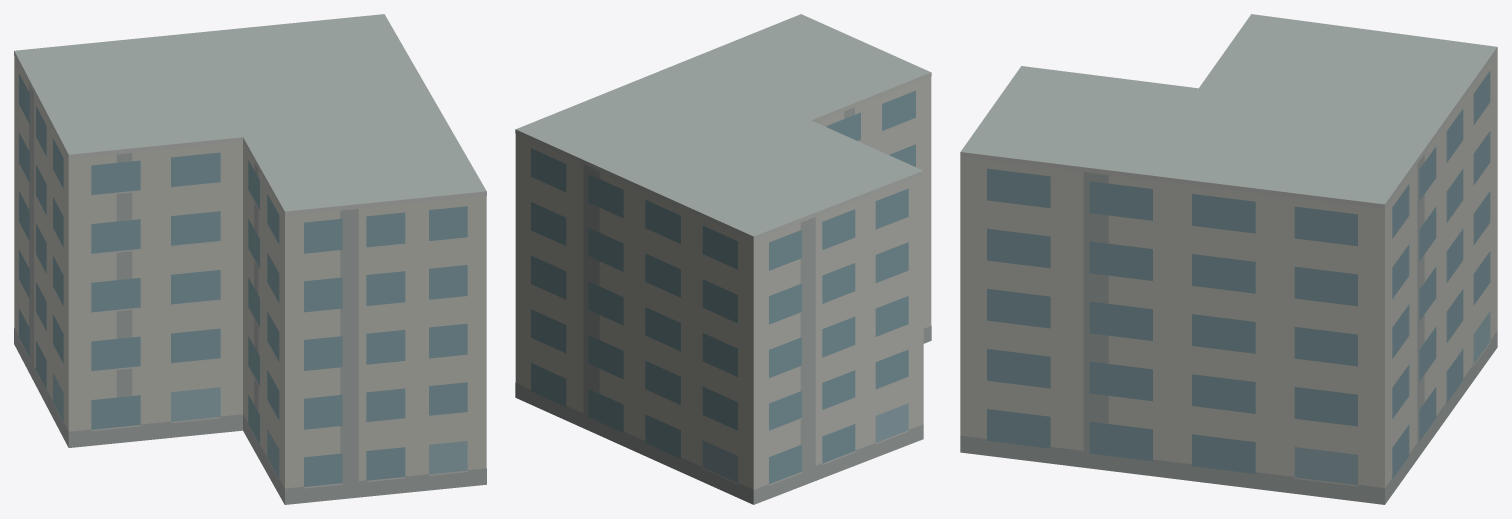
Rendered from survey-upis-32874404.glb.
3 views of the same model, side by side, from view 1: azimuth 30°, elevation 25°; view 2: azimuth 150°, elevation 25°; view 3: azimuth 270°, elevation 25° (orthographic). The views are drawn at different scales.
Visible parts, largest first — view 1: survey-upis-32874404.tmp; view 2: survey-upis-32874404.tmp; view 3: survey-upis-32874404.tmp.
Boxes of the visible parts, x1,y1,x2,y2 form: survey-upis-32874404.tmp: [14, 14, 486, 504]; survey-upis-32874404.tmp: [515, 14, 931, 504]; survey-upis-32874404.tmp: [960, 14, 1497, 504].
Bounding box in the file's own units: 20.73 × 15.25 × 24.72.
